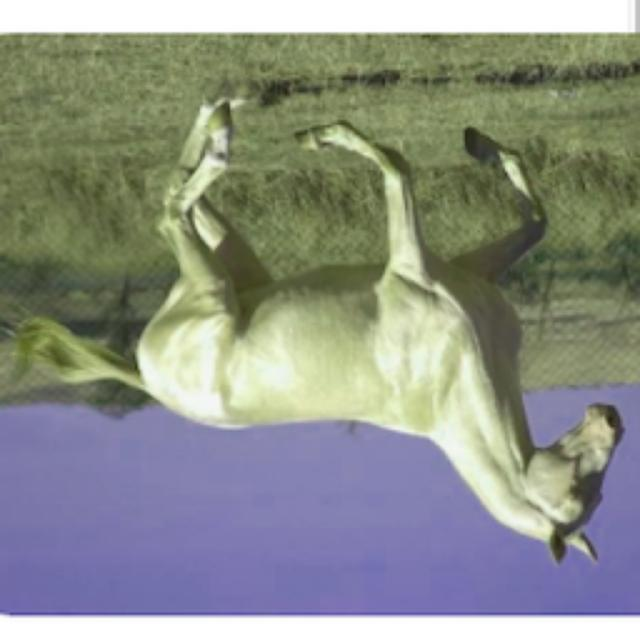Horse: (2, 78, 630, 570)
